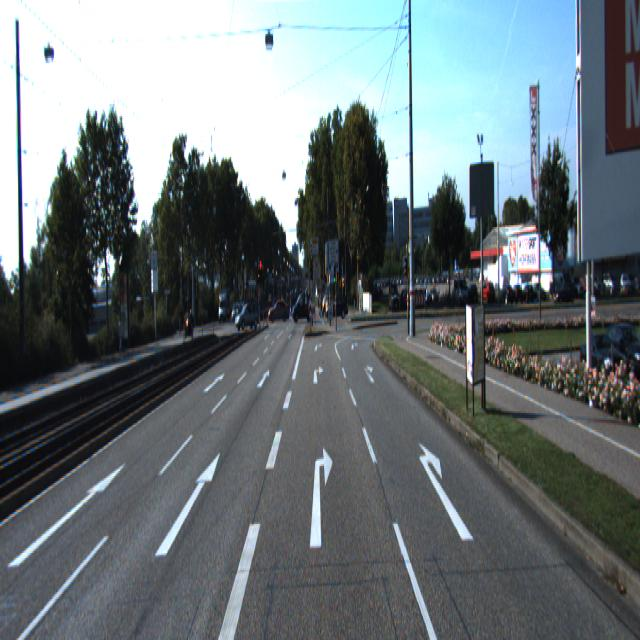Car: (234, 301, 260, 331)
DontCare: (369, 265, 639, 306), (267, 295, 347, 322)
Misc: (185, 309, 195, 341)
